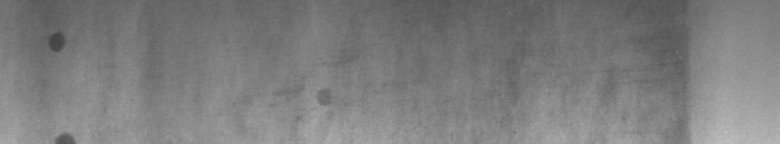fi: (45, 24, 73, 136)
